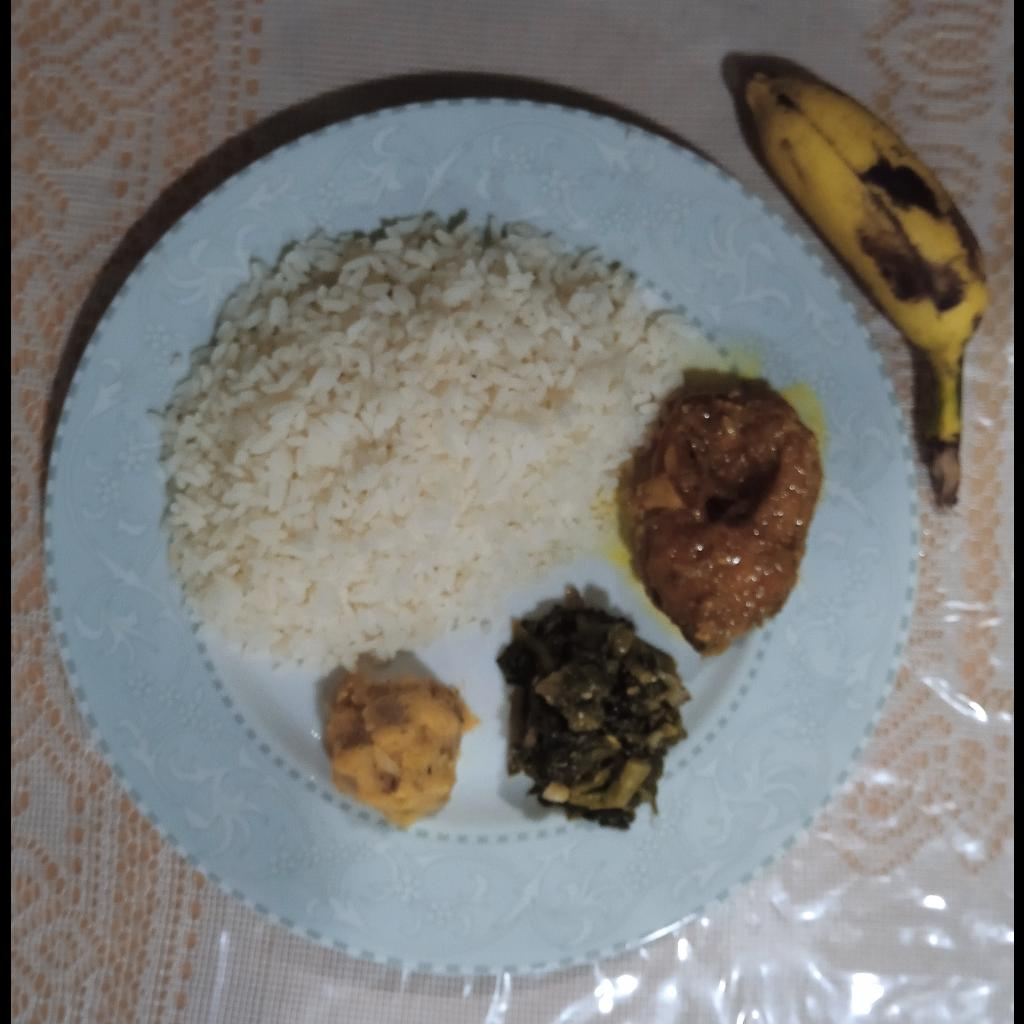banana: (741, 72, 989, 445)
fish: (632, 373, 819, 660)
potato-mashed: (323, 676, 479, 829)
rice: (165, 211, 695, 671)
shak: (498, 600, 692, 830)
